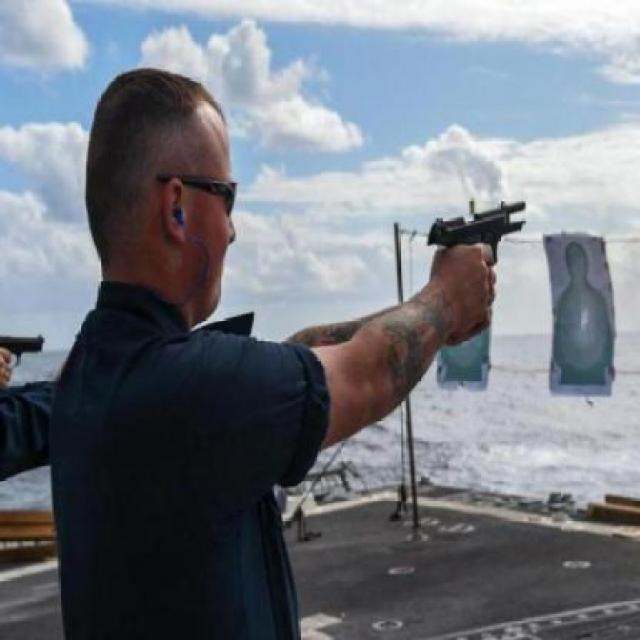gun: (423, 189, 526, 280)
